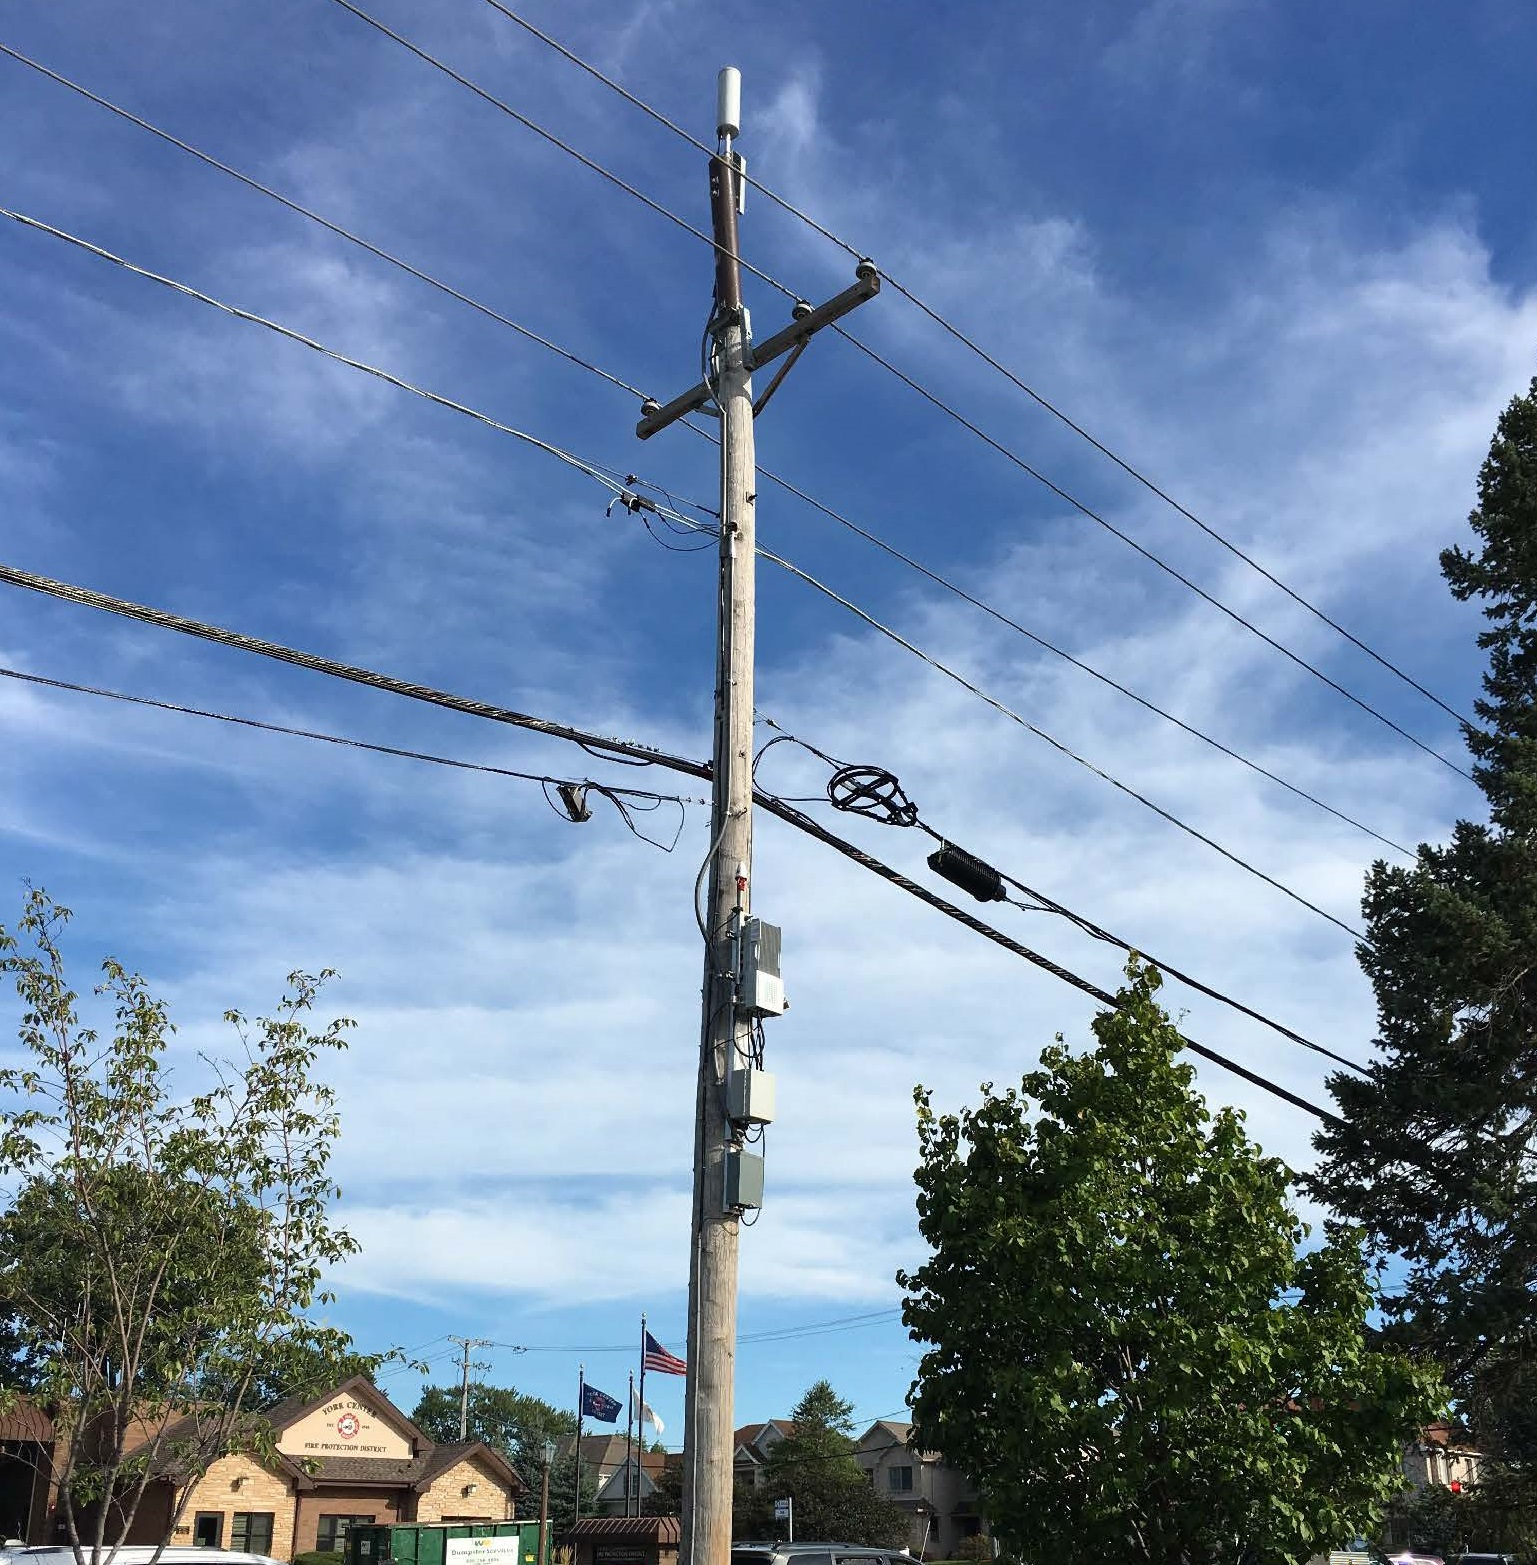utility_pole: (597, 44, 897, 583)
